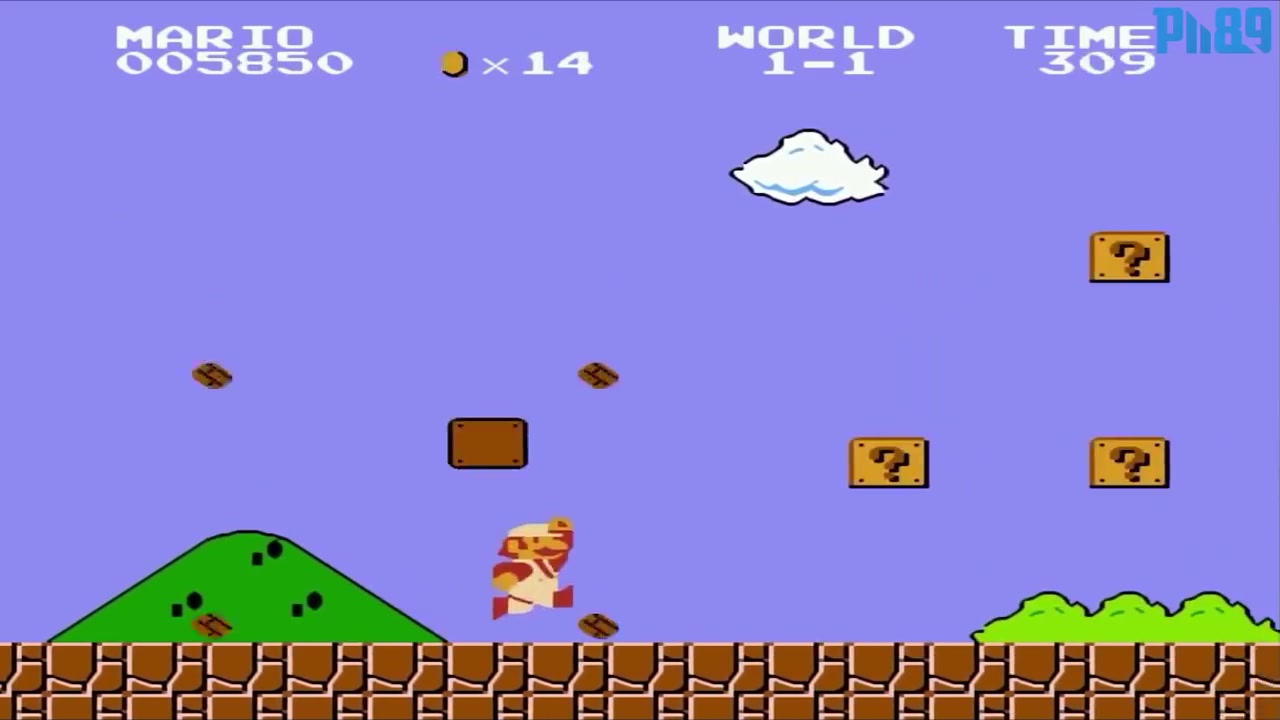mario: (487, 512, 579, 630)
